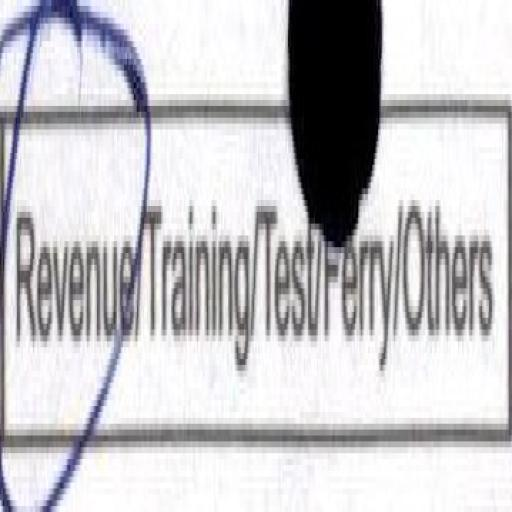check: (1, 0, 137, 512)
